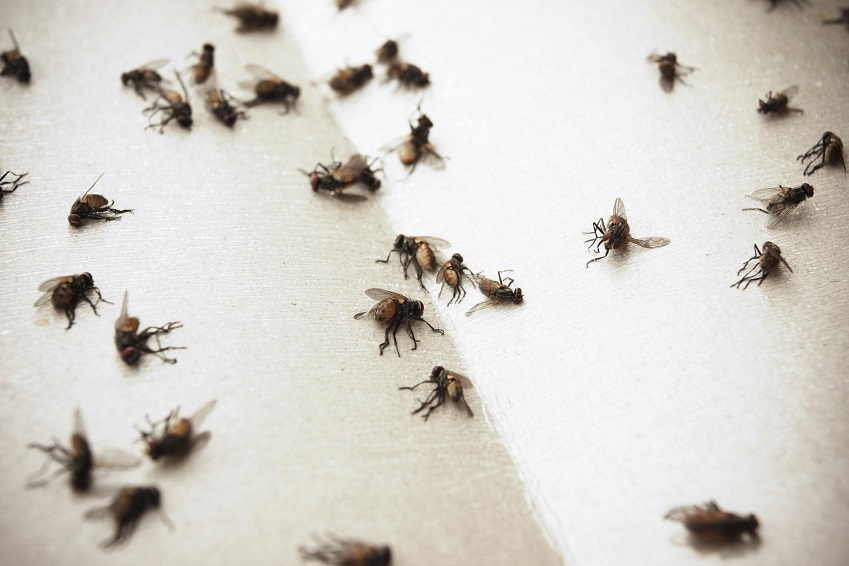phorid fly: (655, 487, 771, 555), (578, 197, 675, 277), (111, 277, 187, 377), (347, 286, 449, 359), (28, 257, 116, 327), (395, 362, 479, 429), (386, 99, 454, 179), (57, 174, 141, 235), (722, 236, 800, 297), (742, 179, 818, 227), (642, 38, 699, 101), (473, 257, 526, 316), (789, 129, 849, 178), (750, 77, 811, 124)
